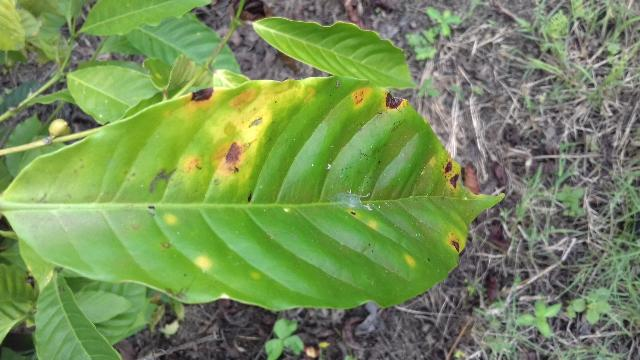rust_level_2: (0, 70, 512, 312)
